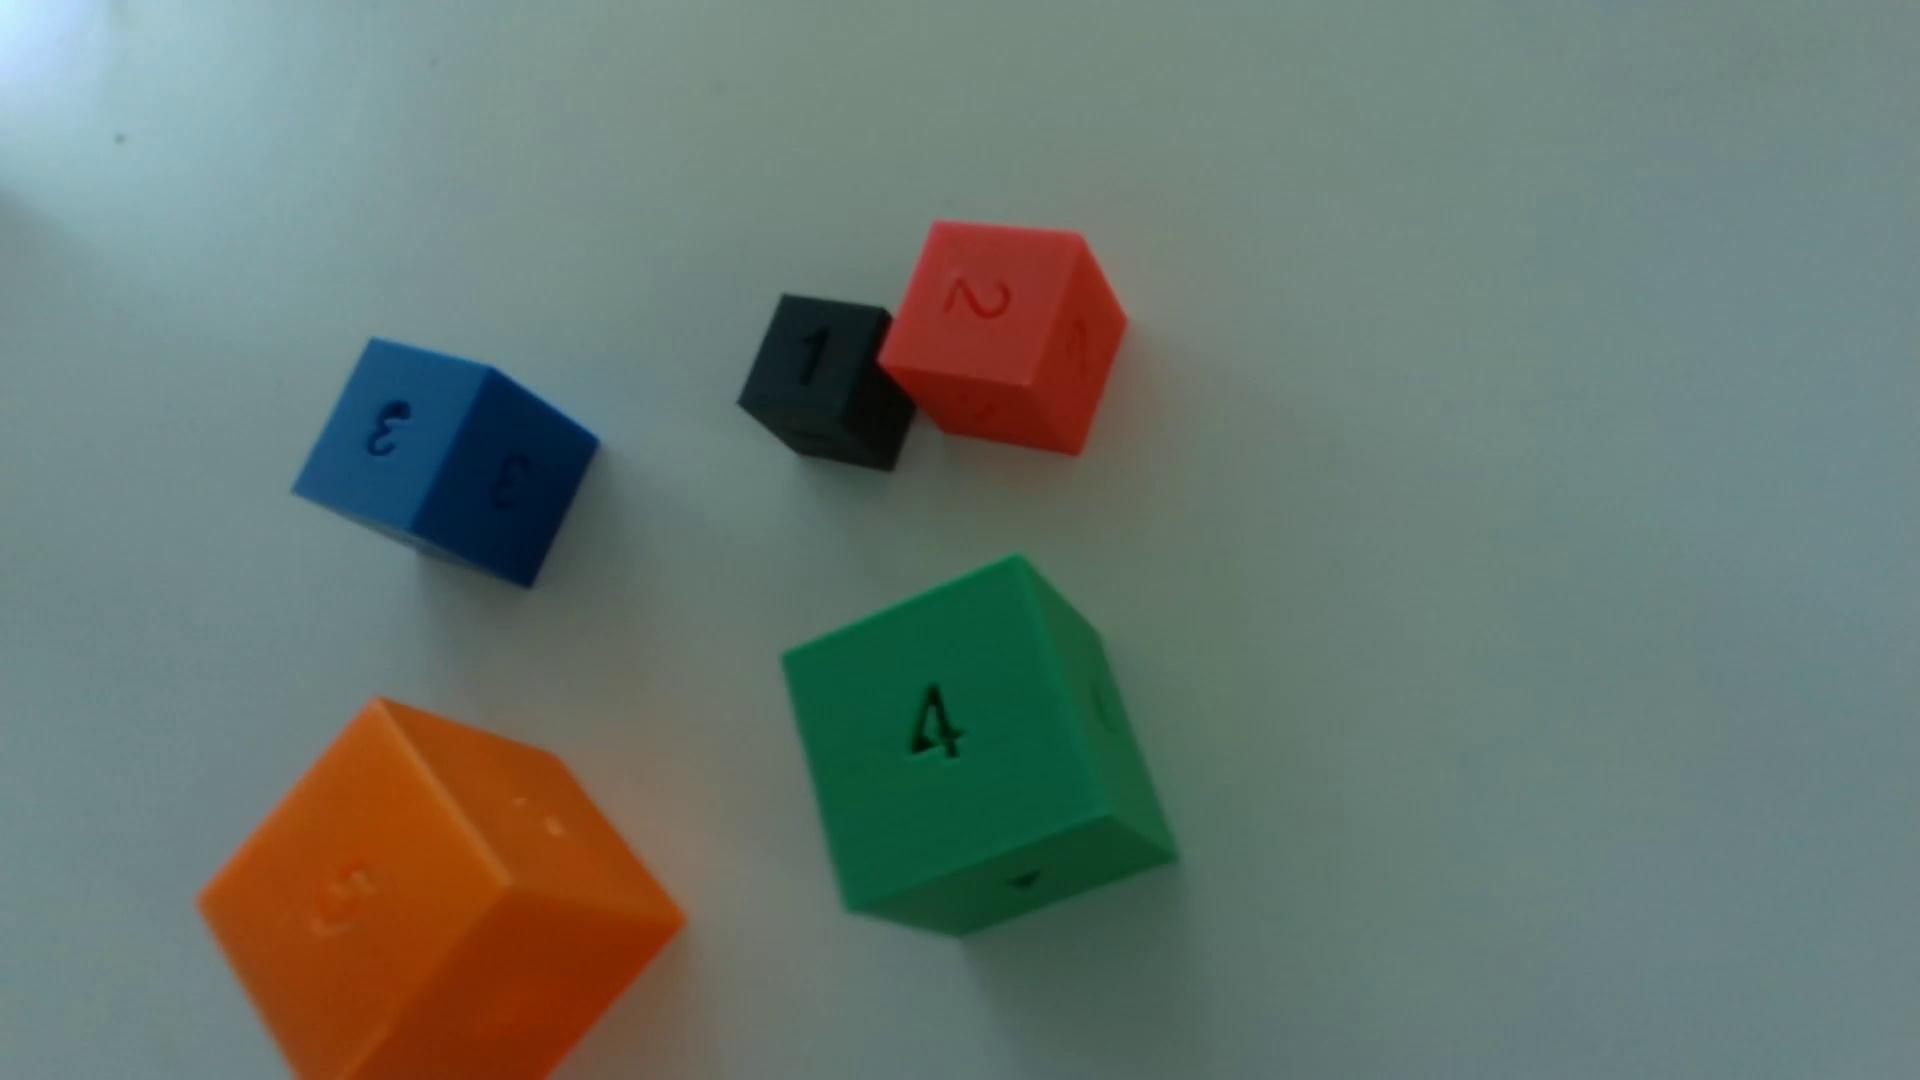black: (737, 295, 915, 473)
blue: (294, 340, 597, 588)
green: (783, 558, 1175, 938)
orange: (198, 699, 684, 1080)
red: (880, 222, 1127, 456)
